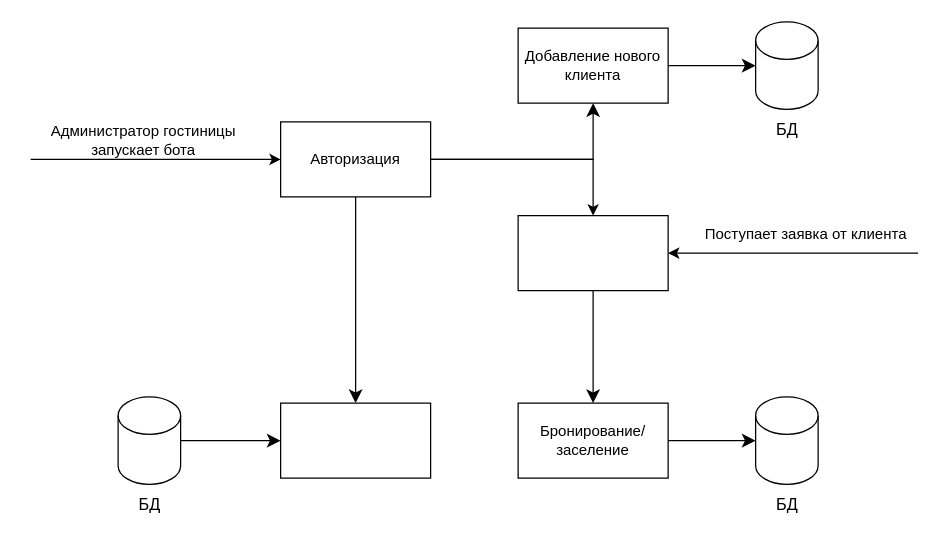
This 950x544 diagram has some shape labels left out. Each missing label, with the centre of its shape:
"Ведение учета (номеров, услуг, брони)" goes at (x=355, y=440).
"Поступление заявки на бронирование" goes at (x=592, y=252).
